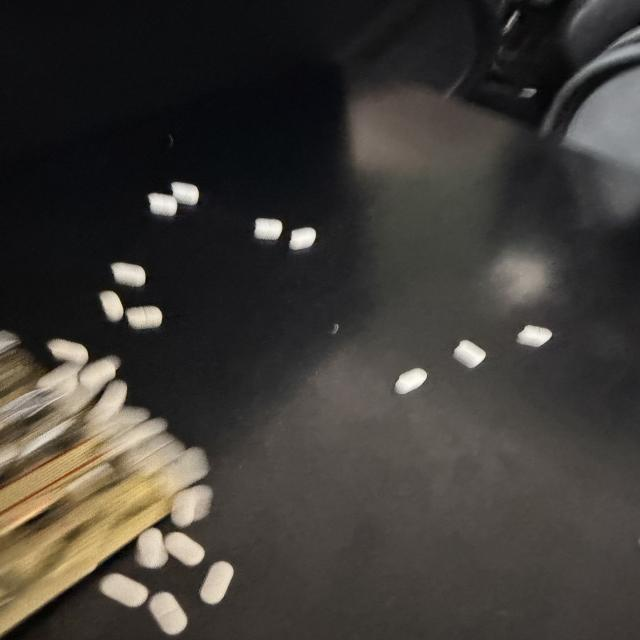pill: (126, 432, 184, 472), (163, 447, 209, 494), (111, 419, 167, 454), (21, 420, 73, 457), (171, 485, 212, 528), (148, 592, 187, 635), (87, 380, 127, 421), (99, 574, 148, 607), (78, 356, 117, 393), (200, 561, 233, 604), (37, 363, 81, 394), (165, 532, 204, 566), (135, 528, 168, 568), (67, 464, 113, 492), (47, 339, 88, 365), (454, 340, 486, 368), (111, 263, 146, 287), (395, 368, 427, 394), (126, 306, 162, 329), (99, 291, 124, 322), (517, 326, 552, 347), (114, 407, 150, 427), (148, 193, 177, 216), (172, 182, 199, 205), (254, 218, 282, 240), (290, 228, 316, 250), (0, 330, 20, 354), (0, 444, 19, 469), (105, 355, 121, 369)
